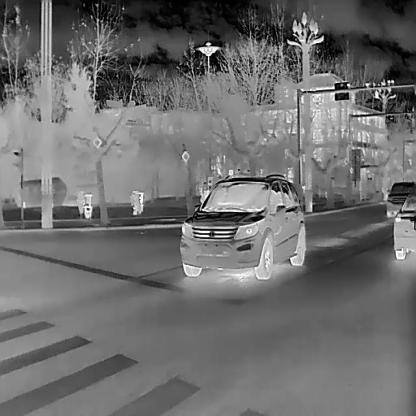car: (179, 172, 306, 279), (392, 191, 415, 259), (385, 180, 416, 218)
